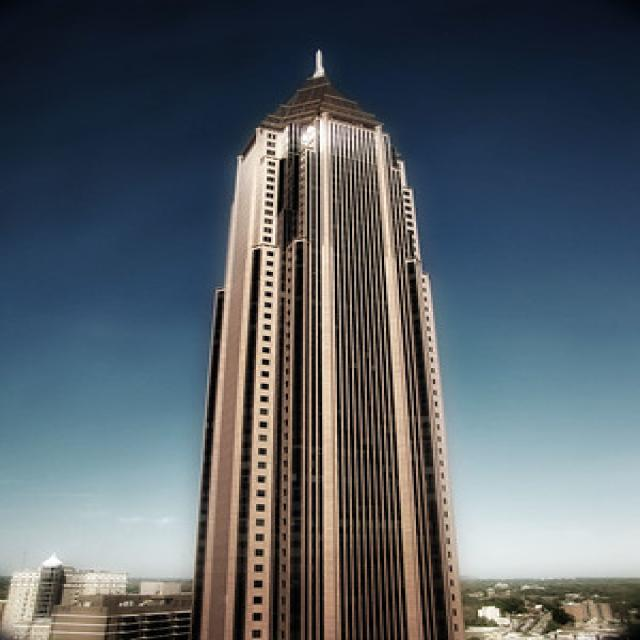building: (188, 70, 471, 640)
